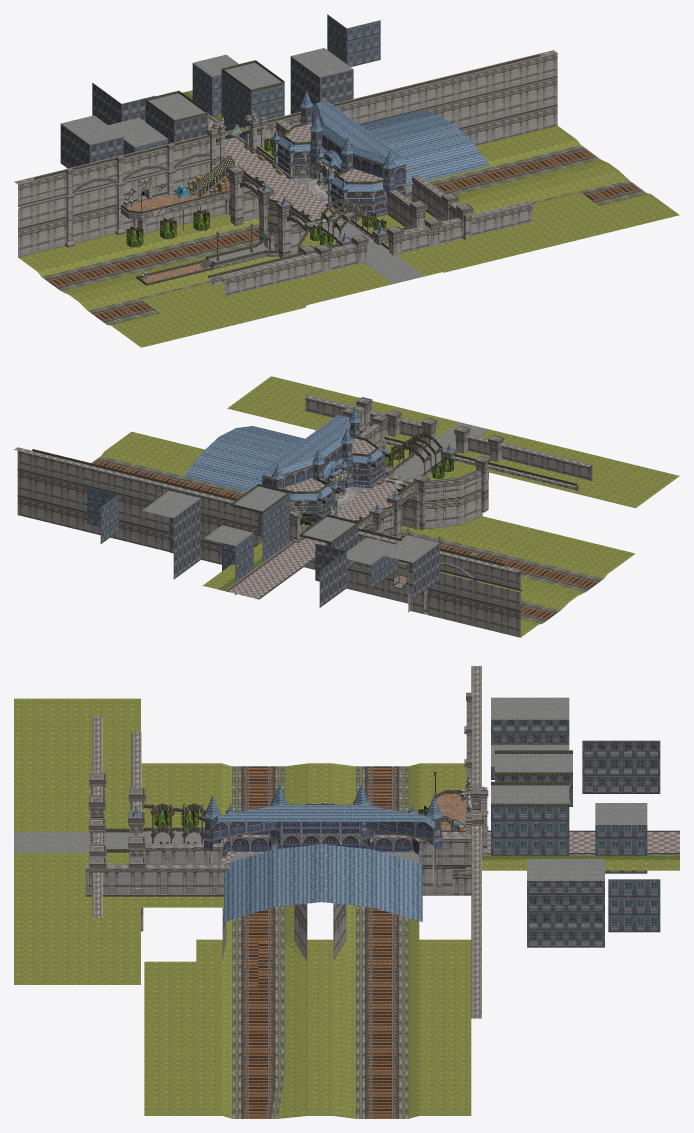
File: StationStreet.glb
3 views of the same model, one above another, from view 1: azimuth 30°, elevation 25°; view 2: azimuth 150°, elevation 25°; view 3: azimuth 270°, elevation 25° (orthographic). The views are drawn at different scales.
Visible parts, largest first — view 1: StationStreet; view 2: StationStreet; view 3: StationStreet.
Boxes of the visible parts, box(x1,y1,x2,y2) form: StationStreet: box(14, 14, 679, 347); StationStreet: box(14, 376, 679, 637); StationStreet: box(14, 666, 679, 1118).
Bounding box in the file's own units: 128 × 25.51 × 102.
Materials: 19 (19 with a texture image).
